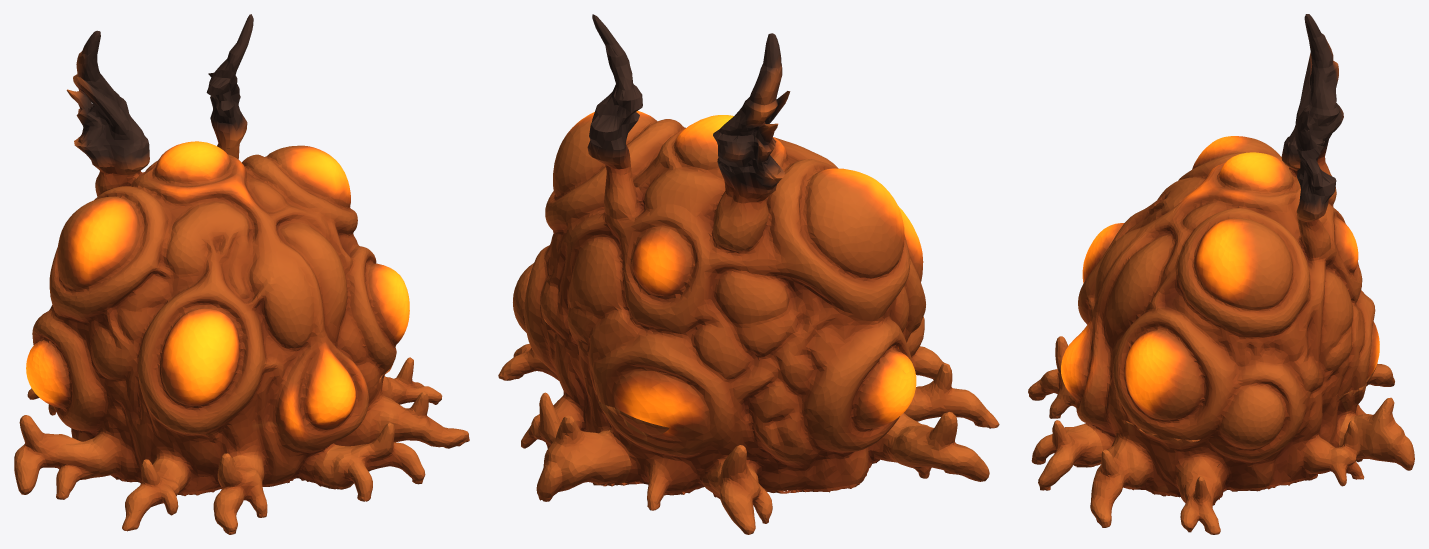
File: aliens-node.glb
3 views of the same model, side by side, from view 1: azimuth 30°, elevation 25°; view 2: azimuth 150°, elevation 25°; view 3: azimuth 270°, elevation 25° (orthographic). The views are drawn at different scales.
Visible parts, largest first — view 1: body, foot_07, foot_03, foot_06, foot_05, foot_04; view 2: body, foot_01, foot_03, foot_02, foot_04, foot_05, foot_07; view 3: body, foot_07, foot_01, foot_06, foot_05, foot_02.
Boxes of the visible parts, bbox=[...] form: body: bbox=[26, 14, 409, 495]; foot_07: bbox=[370, 357, 469, 448]; foot_03: bbox=[14, 415, 100, 499]; foot_06: bbox=[321, 422, 425, 501]; foot_05: bbox=[213, 453, 267, 534]; foot_04: bbox=[122, 458, 185, 531]; body: bbox=[513, 14, 925, 510]; foot_01: bbox=[536, 391, 669, 501]; foot_03: bbox=[893, 412, 989, 481]; foot_02: bbox=[716, 445, 772, 534]; foot_04: bbox=[904, 363, 999, 428]; foot_05: bbox=[907, 316, 944, 380]; foot_07: bbox=[498, 344, 559, 380]; body: bbox=[1061, 14, 1379, 505]; foot_07: bbox=[1090, 413, 1244, 534]; foot_01: bbox=[1338, 367, 1414, 470]; foot_06: bbox=[1031, 420, 1102, 490]; foot_05: bbox=[1028, 336, 1076, 418]; foot_02: bbox=[1366, 363, 1394, 386].
Bounding box in the file's own units: 1.47 × 1.35 × 1.22.
Materials: 1 (1 with a texture image).
